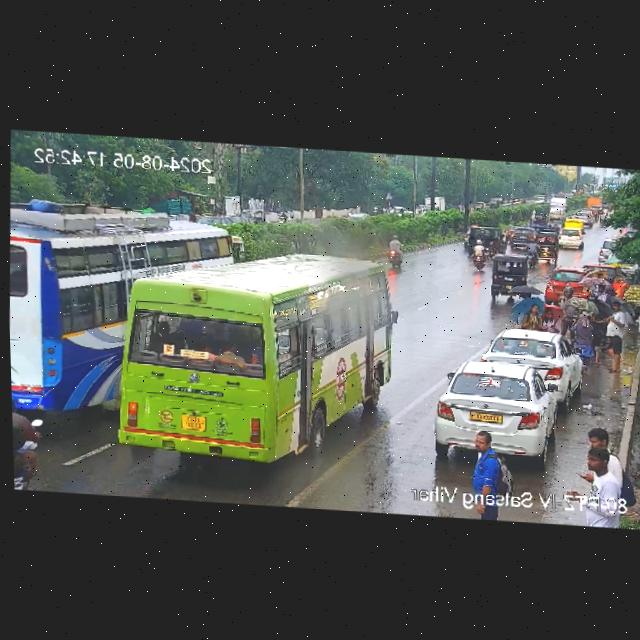bus: (71, 244, 394, 472)
car: (427, 356, 577, 459), (482, 327, 581, 388), (543, 266, 589, 302), (487, 252, 533, 279), (533, 230, 562, 263), (506, 225, 538, 249), (460, 223, 502, 240), (554, 226, 586, 248), (239, 204, 267, 224), (573, 210, 596, 228)
motorcycle: (12, 401, 41, 491), (458, 239, 490, 270), (381, 233, 406, 266)
person: (462, 428, 517, 521), (565, 453, 630, 520), (597, 300, 637, 368), (566, 301, 596, 365), (580, 423, 613, 464), (522, 300, 546, 331)
